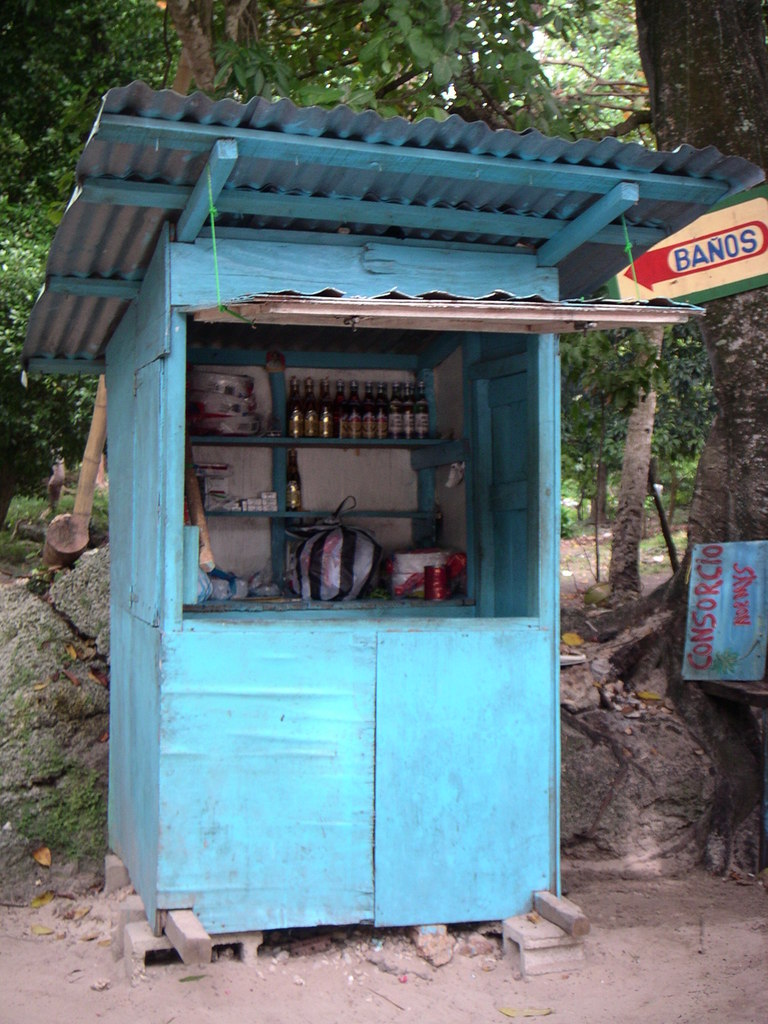Tree: (0, 0, 704, 632), (639, 0, 767, 888)
